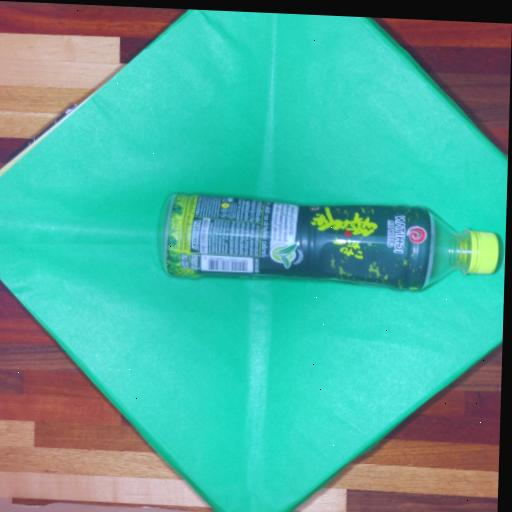bottle: (135, 161, 507, 324)
